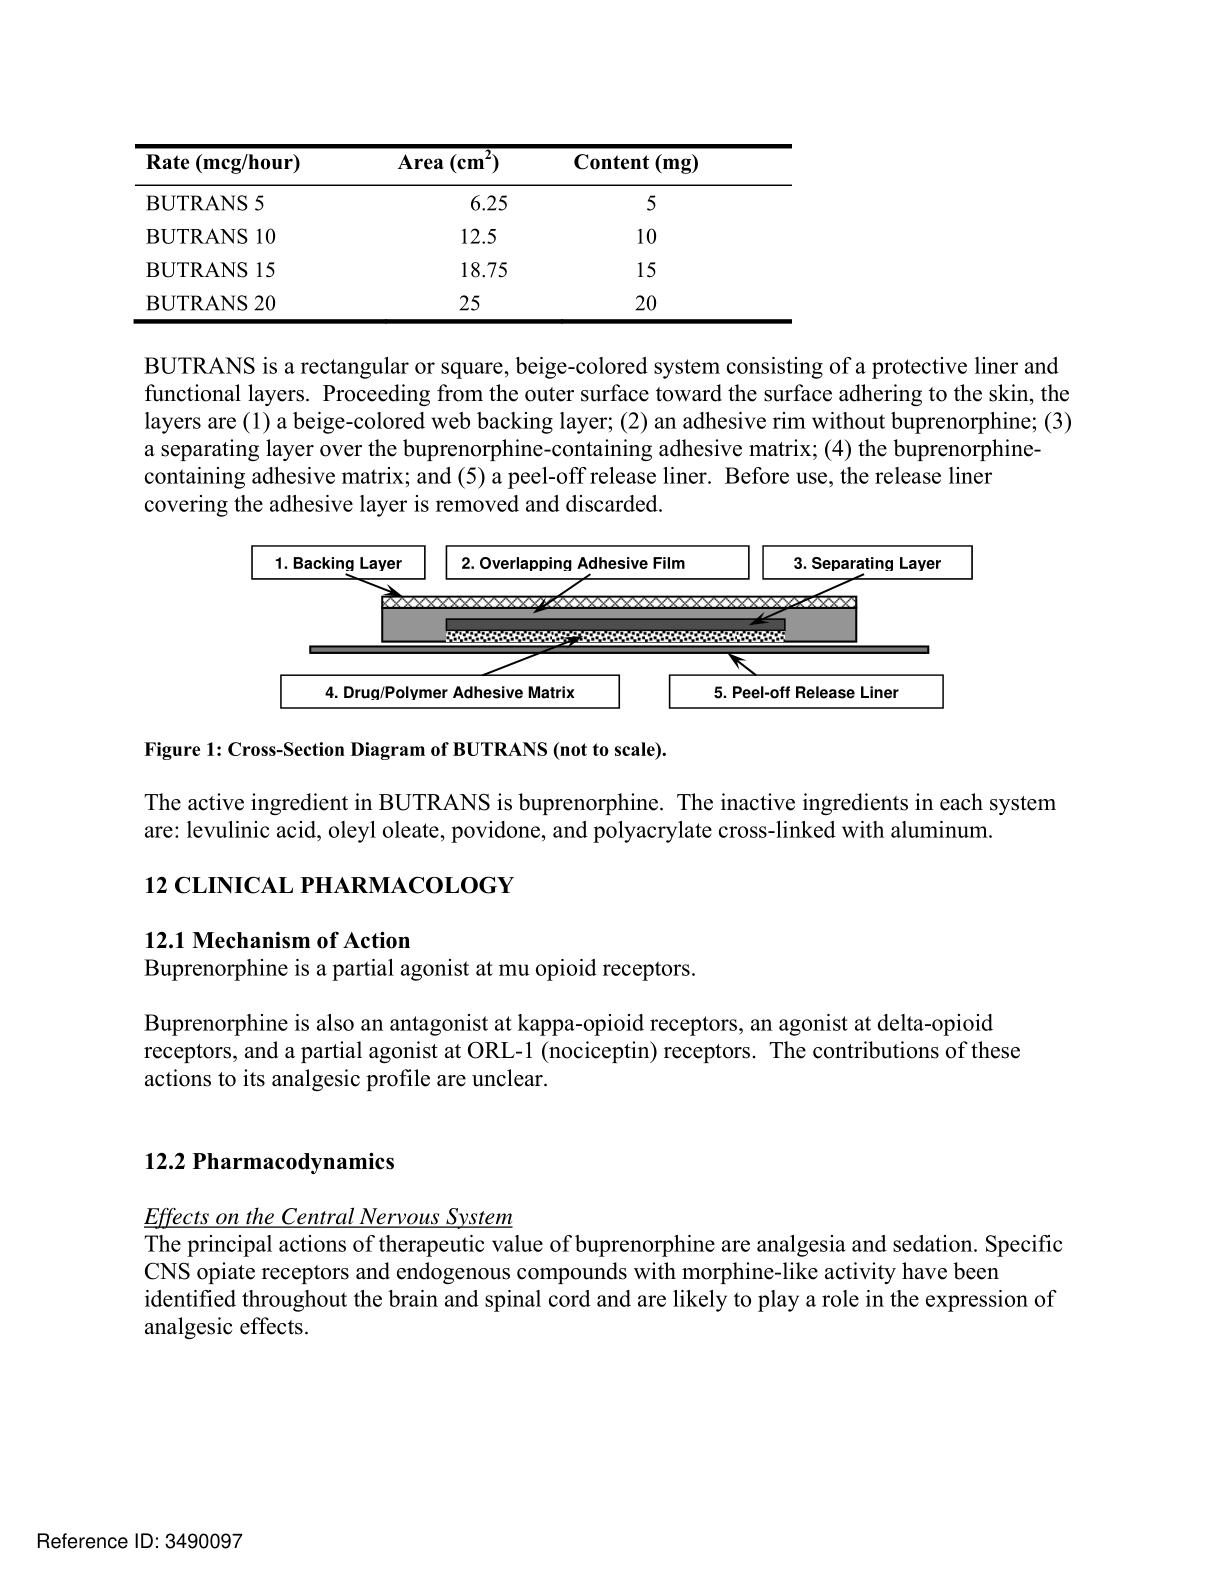partial_lined: (132, 141, 795, 325)
